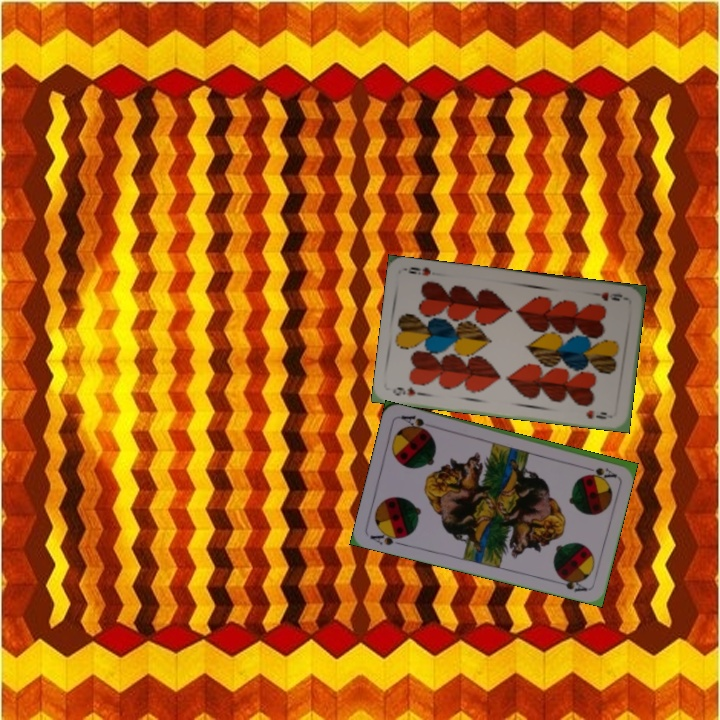H9: (389, 383, 427, 398), (597, 288, 629, 303)
SA: (366, 527, 408, 548), (578, 462, 618, 480)
